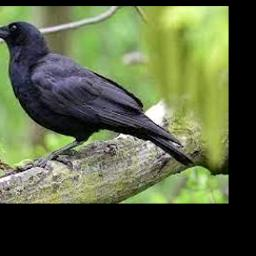Crow: (0, 21, 194, 167)
